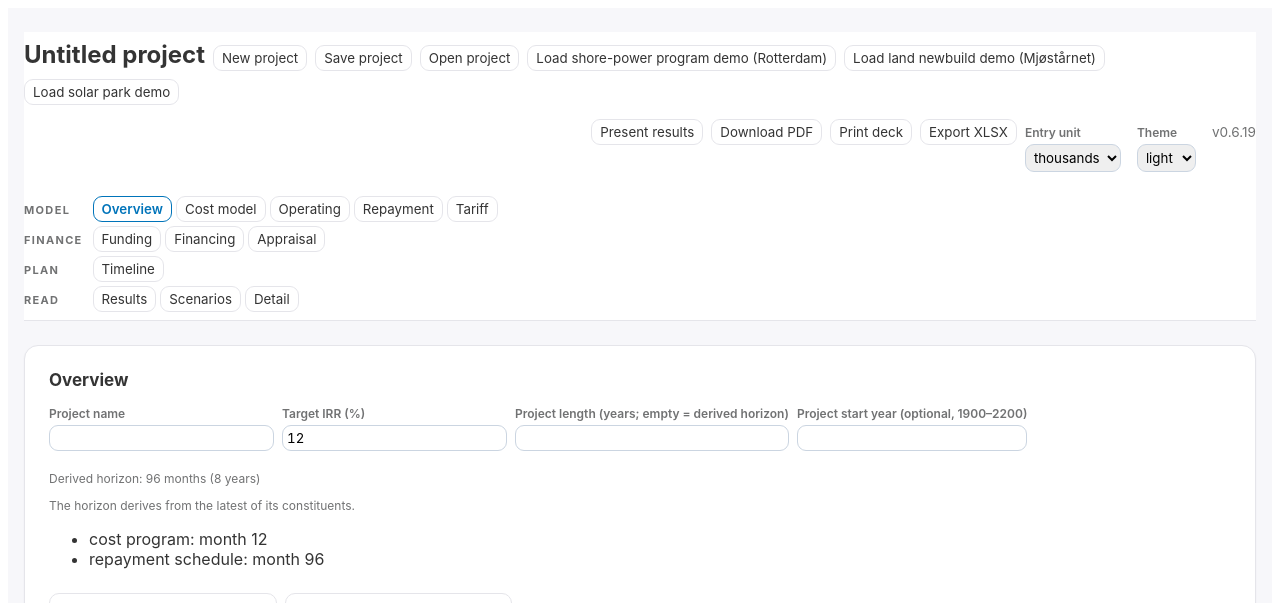
v0.6.18 AUD-13 and AUD-35: the full reset and the unsaved-change guard › GUARD-SETTINGS: a settings-only change (the start year, a scenario axis, the entry unit) is unsaved work too
Type "2030" into the number field labelled "Project start year (optional, 1900–2200)" at [912, 438], box [797,425,1027,451]
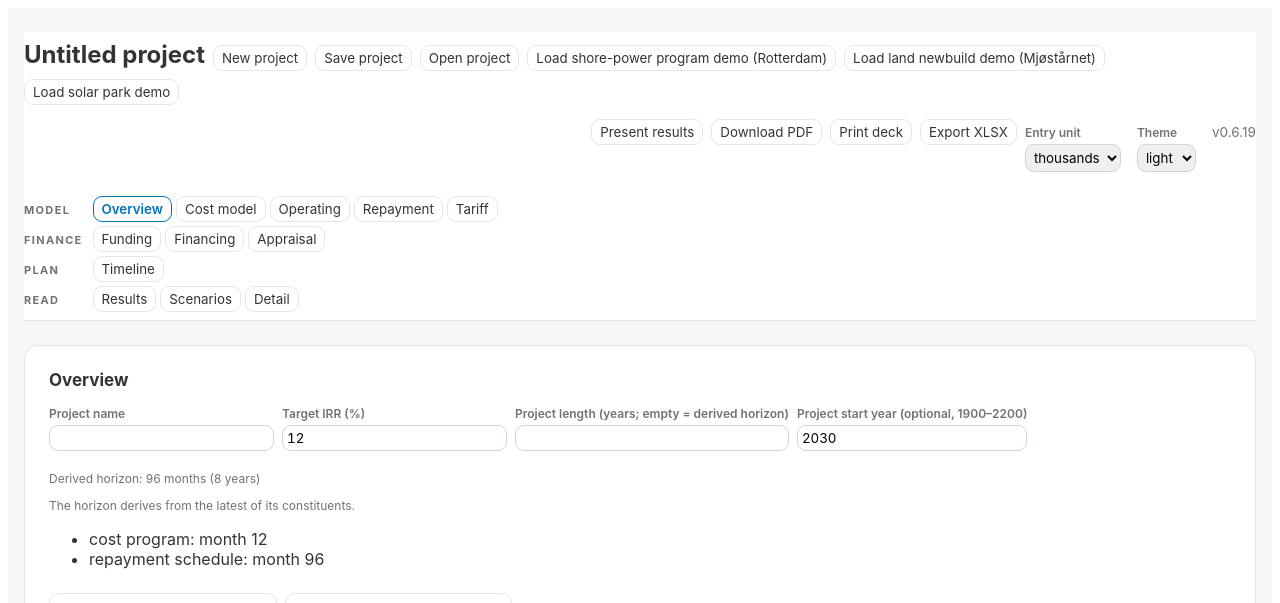
Click the button "New project" at [260, 58], box [213,45,307,71]
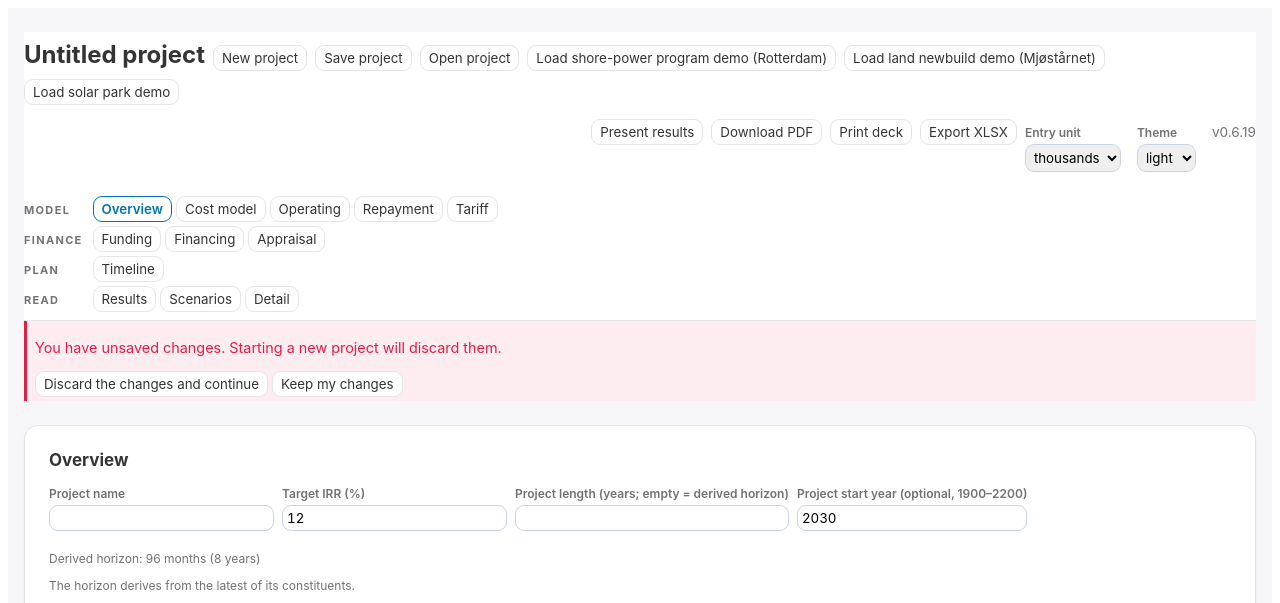
Expected: the dialog with test id "unsaved-guard" is shown, [24,321,1256,401]
